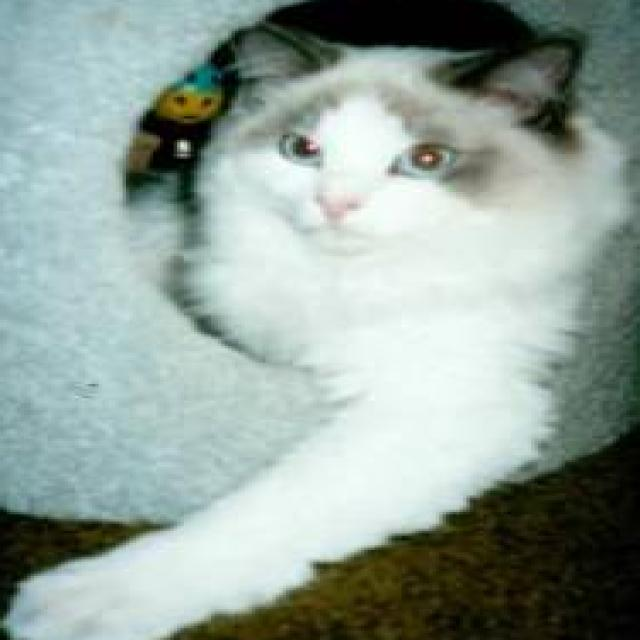Ragdoll: (0, 7, 633, 640)
